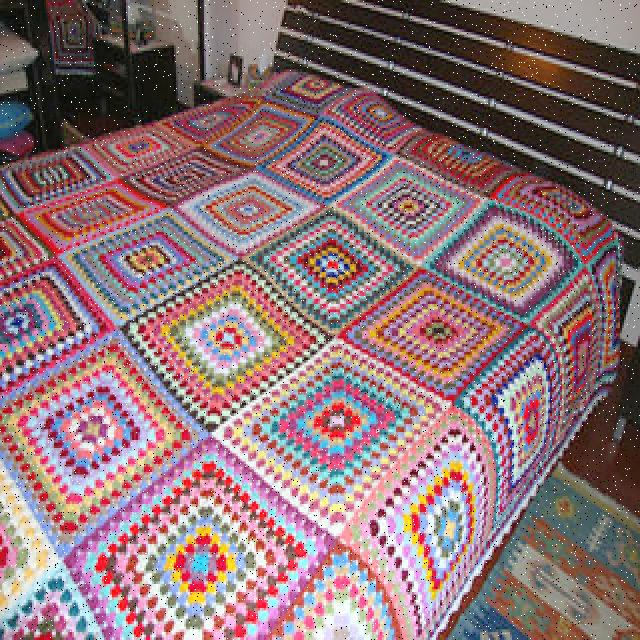bed: (0, 61, 608, 640)
